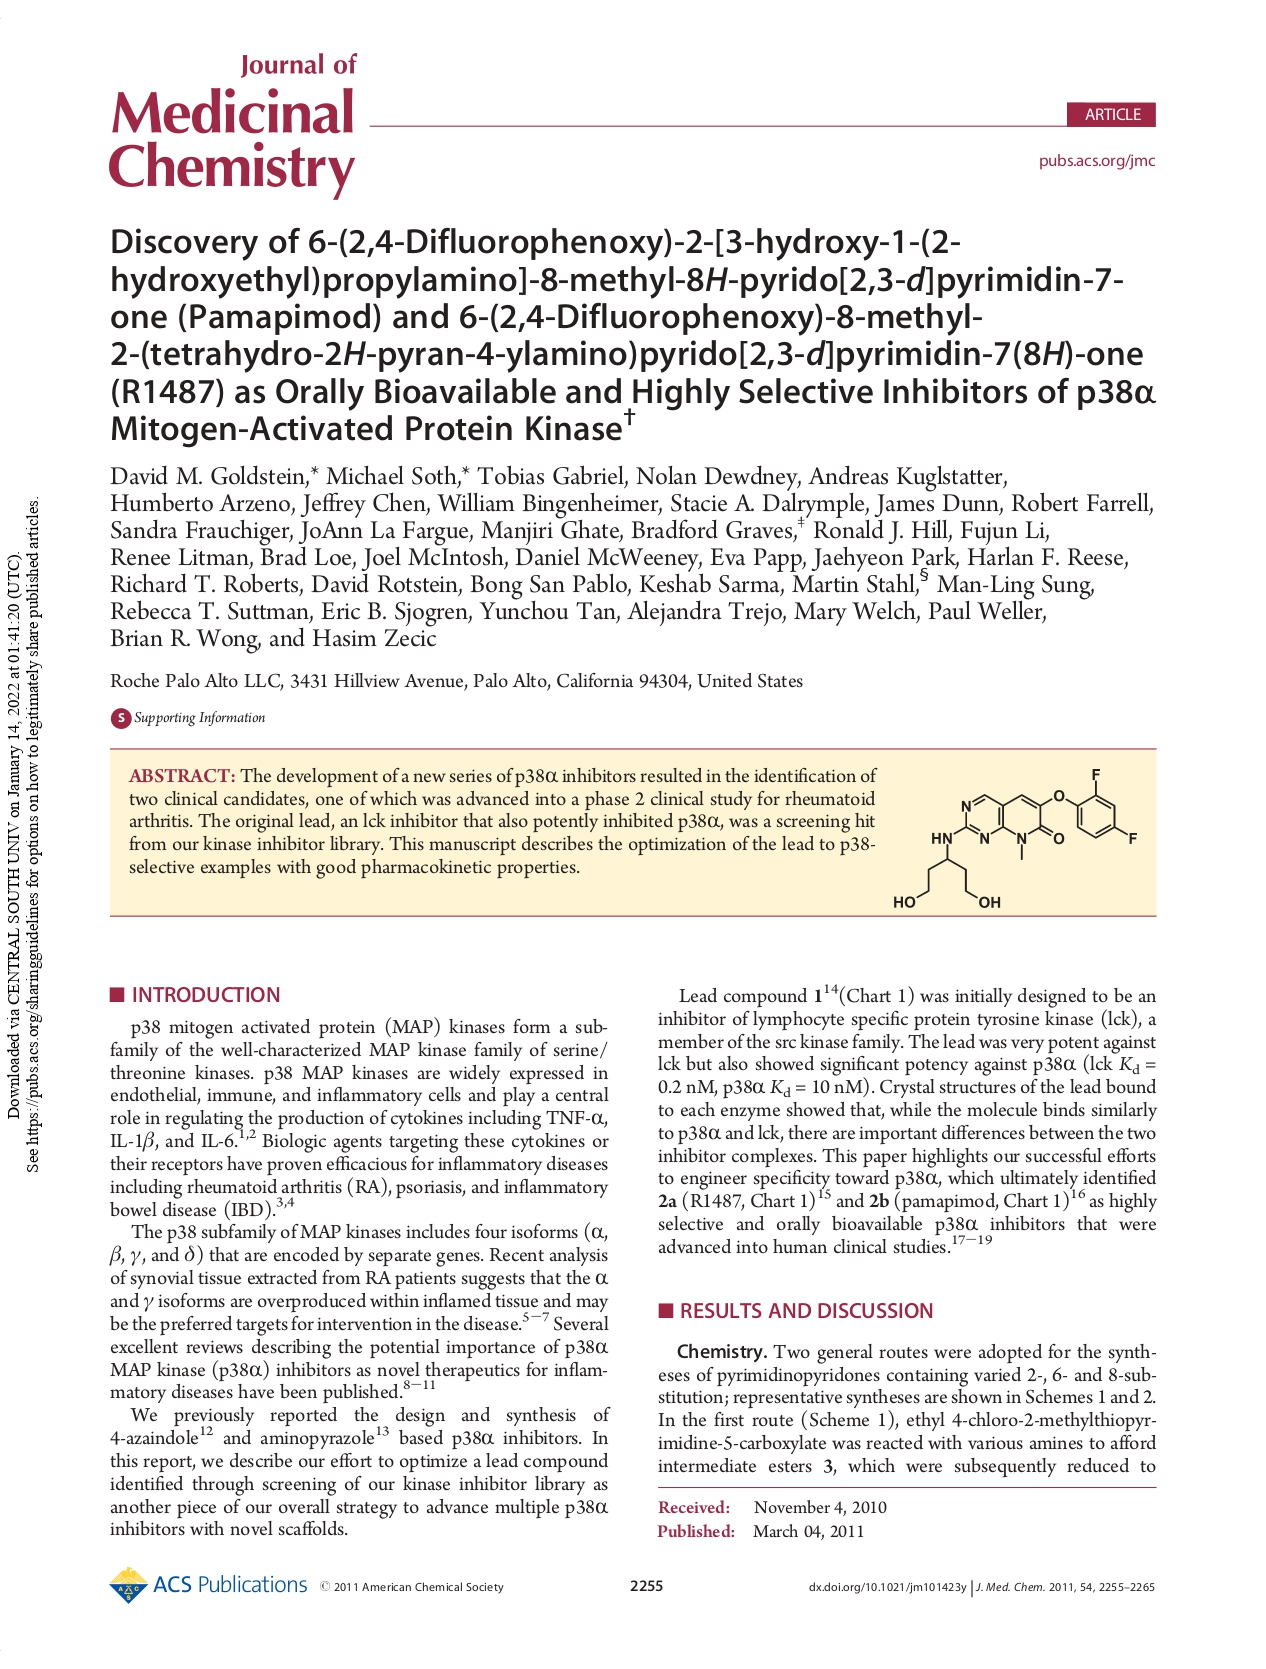exist_molecular: (892, 765, 1144, 910)
